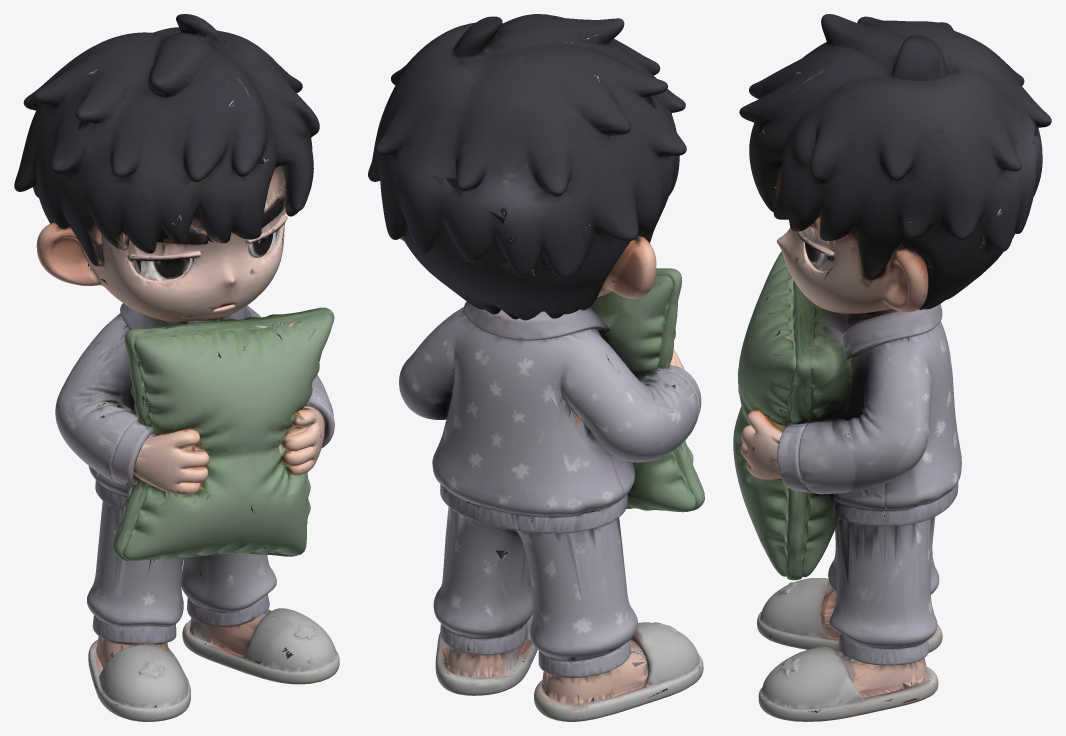
The model's file is char-home.glb.
The picture shows the model from 3 angles, left to right: view 1: azimuth 30°, elevation 25°; view 2: azimuth 150°, elevation 25°; view 3: azimuth 270°, elevation 25°; orthographic projection. The views are drawn at different scales.
Visible parts, largest first — view 1: node_0; view 2: node_0; view 3: node_0.
Boxes of the visible parts, <box> form: node_0: <box>14,14,339,721</box>; node_0: <box>368,14,704,721</box>; node_0: <box>733,14,1051,721</box>.
Bounding box in the file's own units: 0.2718 × 0.6213 × 0.2802.
Materials: 1 (1 with a texture image).
